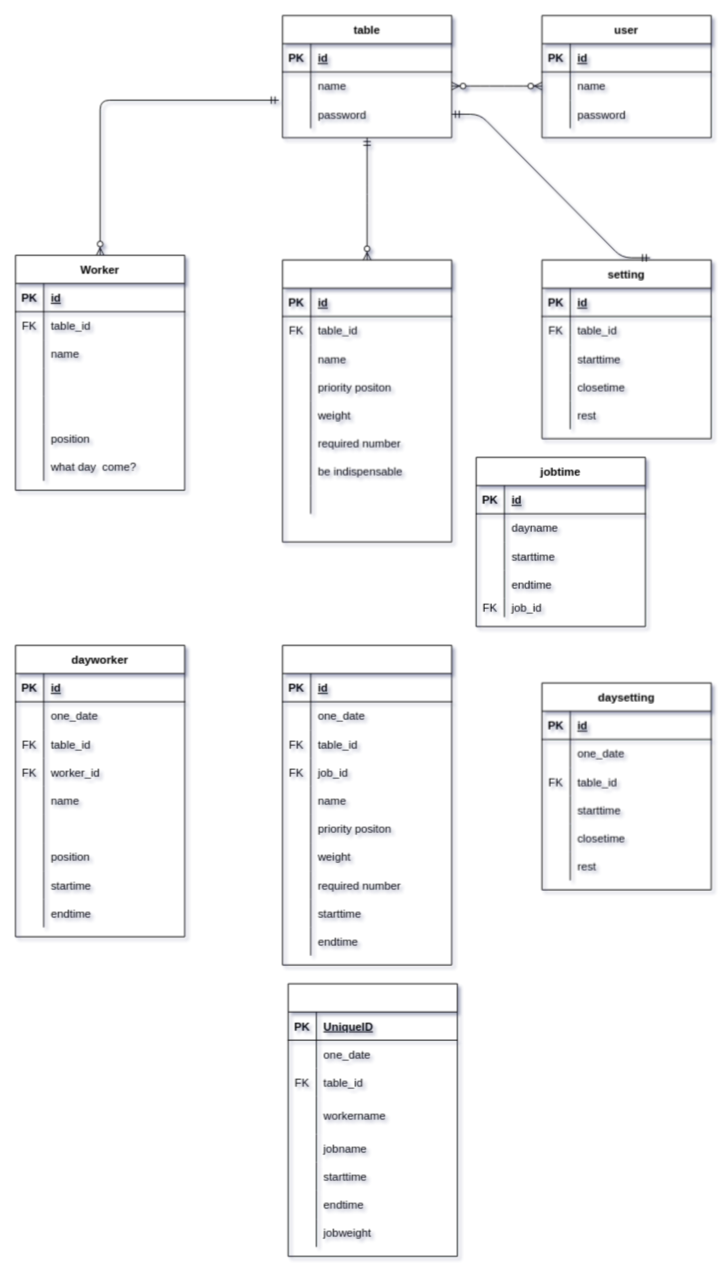
The diagram is 727 pixels wide and 1272 high, and some of its shapes have lost their labels. The shapes that lost their labels are listed below. From the top down, each one's box as (x1, y1, x2, y2) in pixels, then its label:
(282, 259, 452, 542): job
(282, 644, 452, 965): dayjob
(287, 983, 457, 1256): Shift
